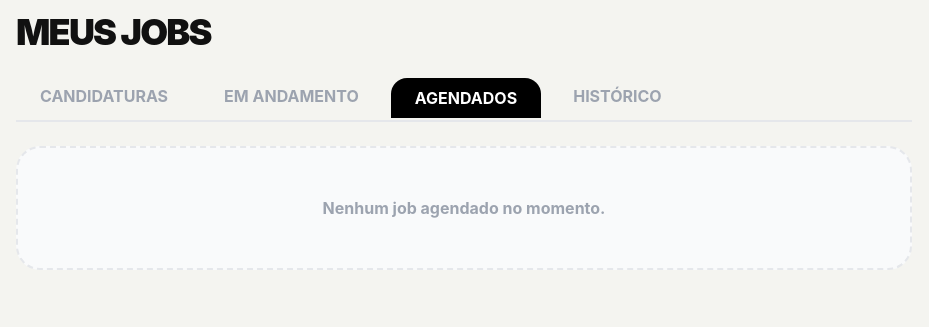
Test: MyJobs - Estado vazio por tab › exibe estado vazio na tab Candidaturas quando nao ha aplicacoes
The image size is (929, 327).
Click the button "Candidaturas" at (104, 96), box [16,76,192,116]
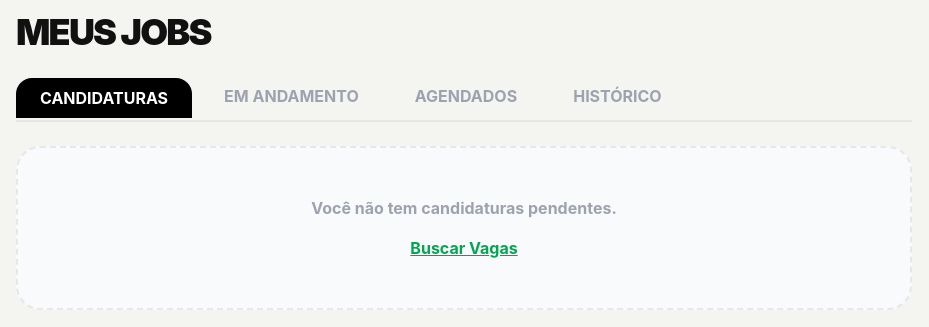
Expected: the text "Você não tem candidaturas pendentes." is shown, [311,198,617,218]
